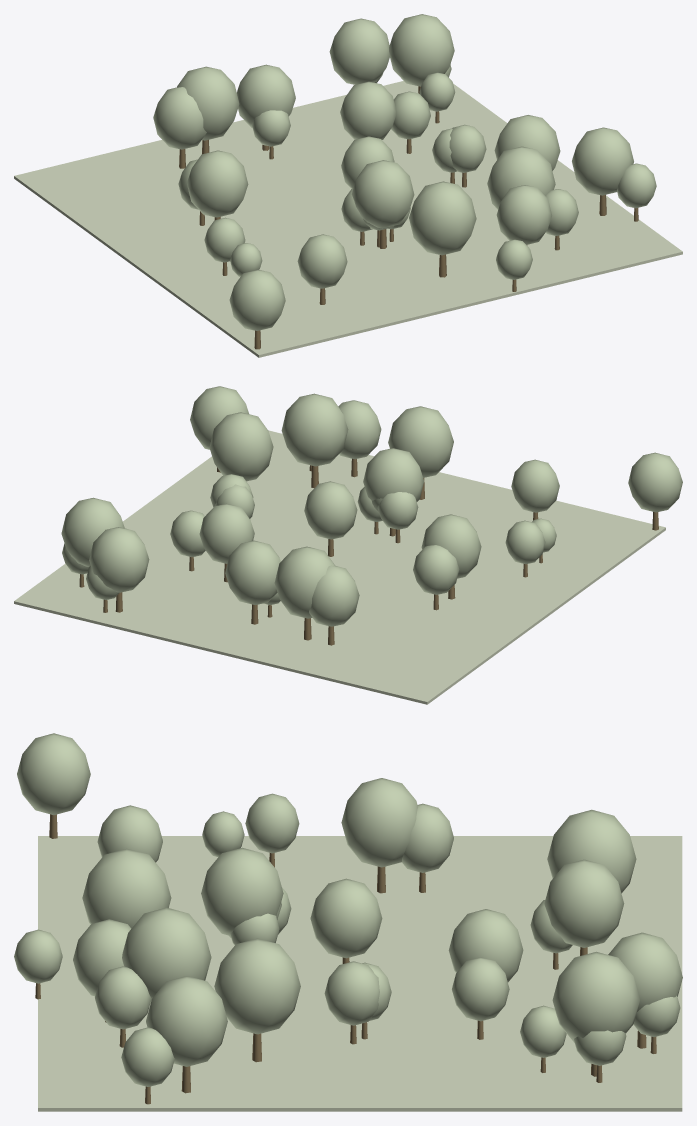
3 renders of one model, top to bottom at view 1: azimuth 30°, elevation 25°; view 2: azimuth 150°, elevation 25°; view 3: azimuth 270°, elevation 25°, orthographic. The views are drawn at different scales.
Visible parts, largest first — view 1: terrain, lod-near-21, lod-near-15, lod-near-26, lod-near-8, lod-near-18, lod-near-3, lod-near-24, lod-near-23, lod-near-22, lod-near-17, lod-near-7 (+16 smaller); view 2: terrain, lod-near-17, lod-near-29, lod-near-21, lod-near-18, lod-near-27, lod-near-24, lod-near-23, lod-near-15, lod-near-26, lod-near-20, lod-near-22 (+12 smaller); view 3: terrain, lod-near-29, lod-near-15, lod-near-17, lod-near-27, lod-near-3, lod-near-8, lod-near-21, lod-near-26, lod-near-23, lod-near-20, lod-near-24 (+18 smaller).
Boxes of the visible parts, x1,y1,x2,y2 form: terrain: (14, 81, 682, 357); lod-near-21: (409, 181, 476, 255); lod-near-15: (389, 14, 454, 86); lod-near-26: (351, 160, 414, 228); lod-near-8: (187, 150, 248, 217); lod-near-18: (329, 18, 389, 84); lod-near-3: (572, 127, 633, 195); lod-near-24: (177, 66, 239, 140); lod-near-23: (229, 269, 285, 330); lod-near-22: (340, 81, 396, 139); lod-near-17: (487, 146, 555, 209); lod-near-7: (496, 185, 551, 244); terrain: (14, 430, 665, 704); lod-near-17: (281, 393, 348, 466); lod-near-29: (209, 412, 273, 481); lod-near-21: (388, 406, 453, 477); lod-near-18: (89, 527, 149, 592); lod-near-27: (225, 540, 280, 604); lod-near-24: (274, 546, 334, 618); lod-near-23: (628, 452, 682, 512); lod-near-15: (61, 497, 124, 566); lod-near-26: (363, 448, 423, 501); lod-near-20: (304, 481, 357, 539); lod-near-22: (199, 503, 254, 563); terrain: (38, 836, 682, 1111); lod-near-29: (214, 938, 300, 1034); lod-near-15: (552, 951, 639, 1042); lod-near-17: (122, 907, 211, 1002); lod-near-27: (544, 859, 624, 947); lod-near-3: (146, 976, 227, 1066); lod-near-8: (341, 778, 417, 867); lod-near-21: (82, 848, 171, 928); lod-near-26: (201, 847, 283, 935); lod-near-23: (17, 733, 90, 815); lod-near-20: (310, 878, 382, 958); lod-near-24: (547, 809, 636, 893).
Size of the model in its own units: 34.45 by 7.07 by 33.24.
